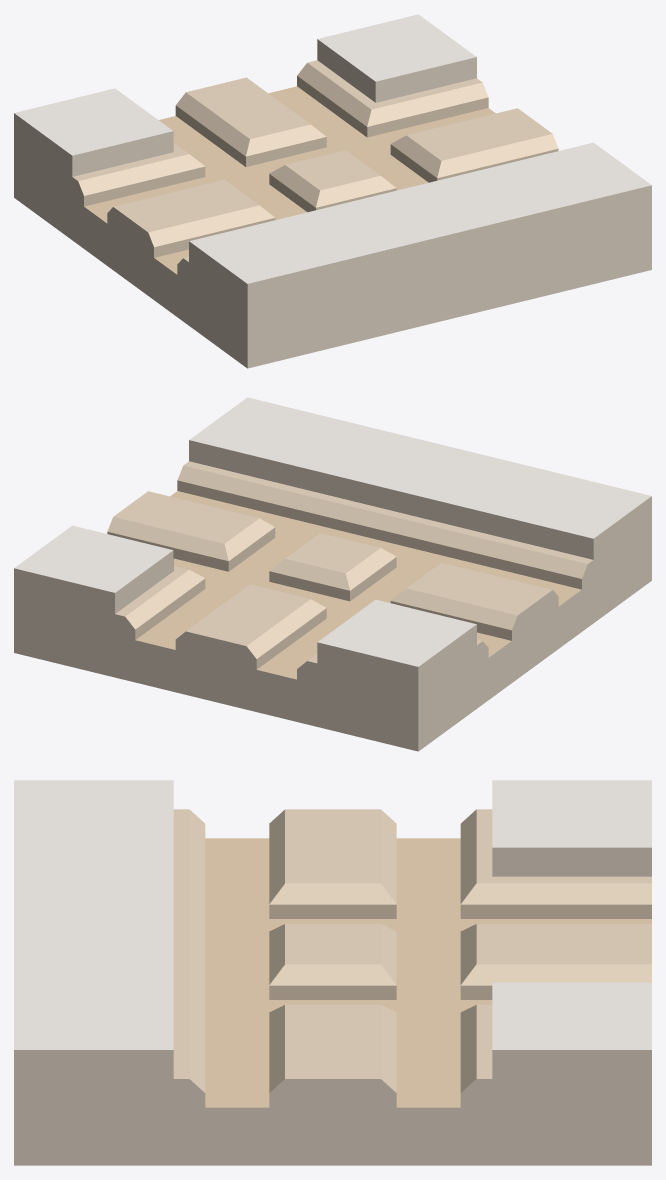
Rendered from Puzzle_Track_Standard_TJoint.glb.
3 views of the same model, one above another, from view 1: azimuth 30°, elevation 25°; view 2: azimuth 150°, elevation 25°; view 3: azimuth 270°, elevation 25° (orthographic). The views are drawn at different scales.
Visible parts, largest first — view 1: Puzzle_Track_Standard_TJoint; view 2: Puzzle_Track_Standard_TJoint; view 3: Puzzle_Track_Standard_TJoint.
Part boxes in pixels (x1,y1,x2,y2): Puzzle_Track_Standard_TJoint: (14, 14, 651, 368); Puzzle_Track_Standard_TJoint: (14, 397, 651, 751); Puzzle_Track_Standard_TJoint: (14, 780, 651, 1165).
Bounding box in the file's own units: 1 × 0.2 × 1.
